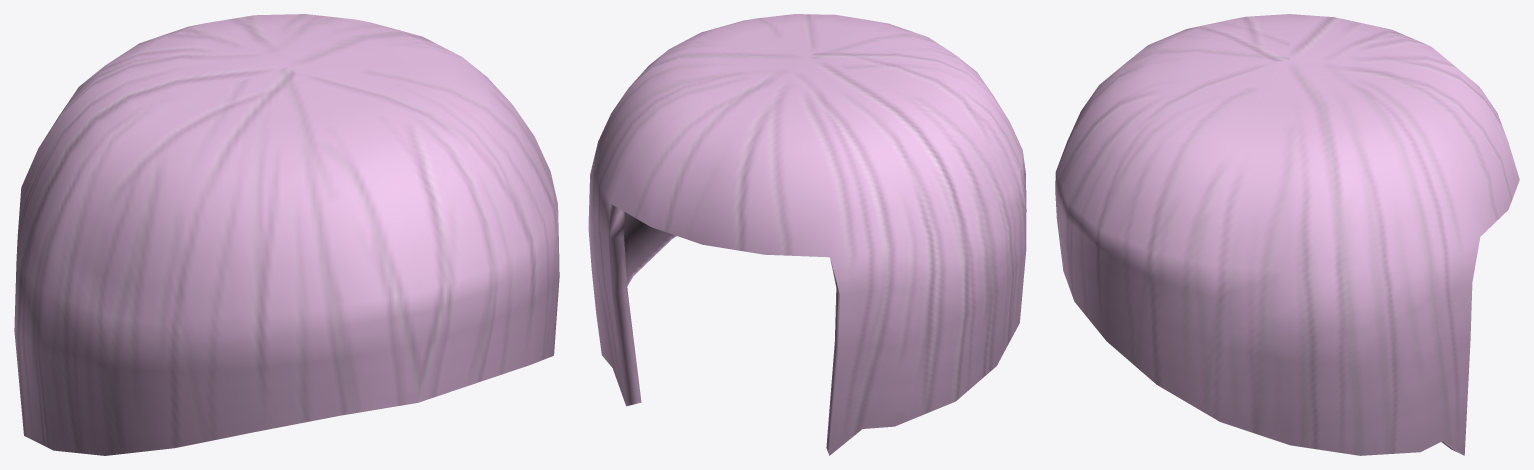
3 renders of one model, left to right at view 1: azimuth 30°, elevation 25°; view 2: azimuth 150°, elevation 25°; view 3: azimuth 270°, elevation 25°, orthographic. The views are drawn at different scales.
Visible parts, largest first — view 1: geometry_0; view 2: geometry_0; view 3: geometry_0.
Boxes of the visible parts, left/top/right/bottom form: geometry_0: left=14, top=14, right=559, bottom=455; geometry_0: left=588, top=14, right=1026, bottom=455; geometry_0: left=1055, top=14, right=1519, bottom=455.
Size of the model in its own units: 1.35 by 1.04 by 1.28.
Materials: 1 (1 with a texture image).
